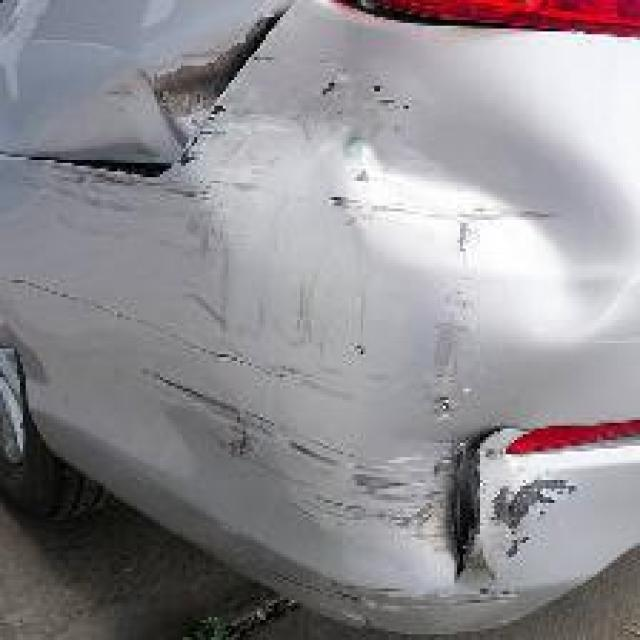damaged: (37, 6, 637, 614)
